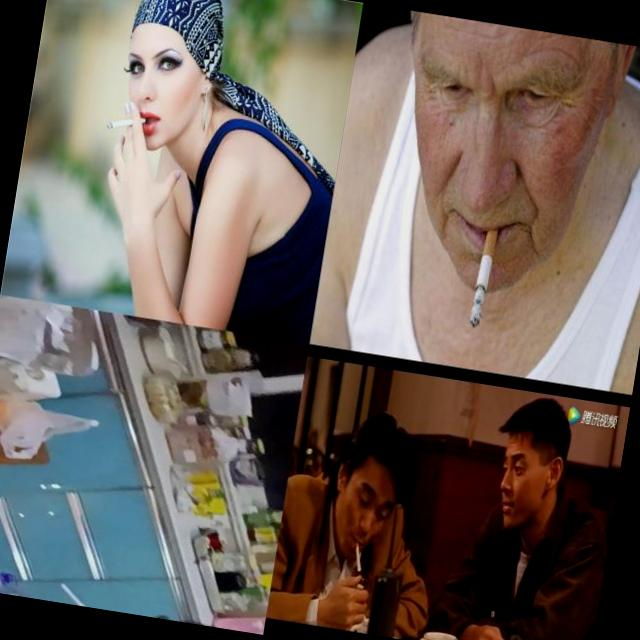smoke: (464, 215, 504, 337), (106, 111, 148, 137), (57, 582, 99, 608), (350, 542, 367, 574)
